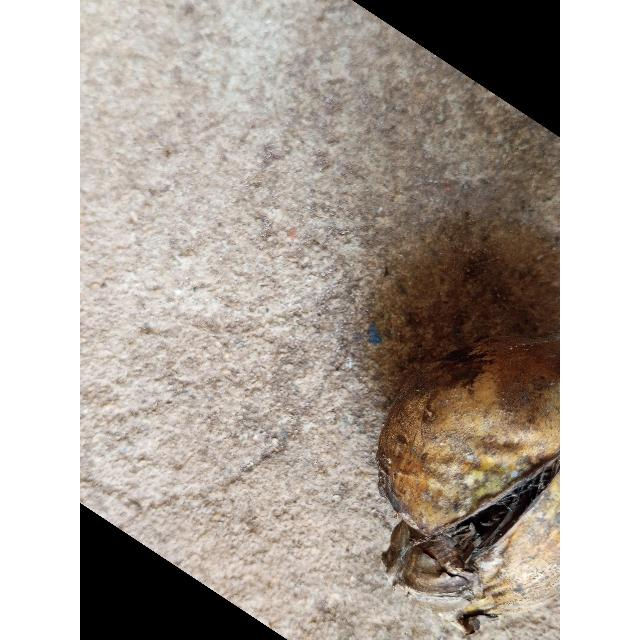damaged: (376, 335, 560, 633)
